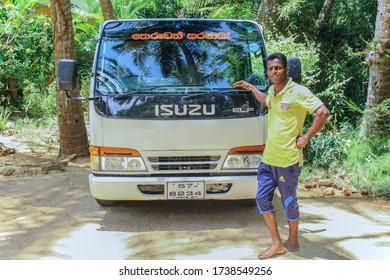truck: (83, 17, 280, 207)
